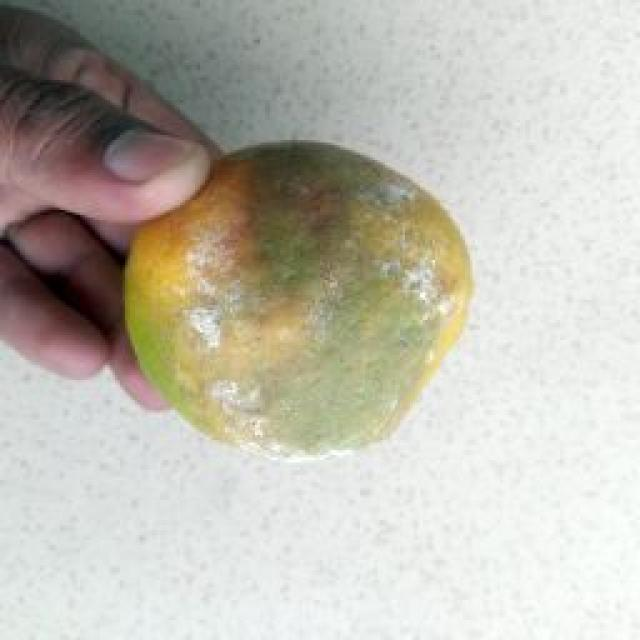Bad_Orange: (125, 141, 472, 454)
